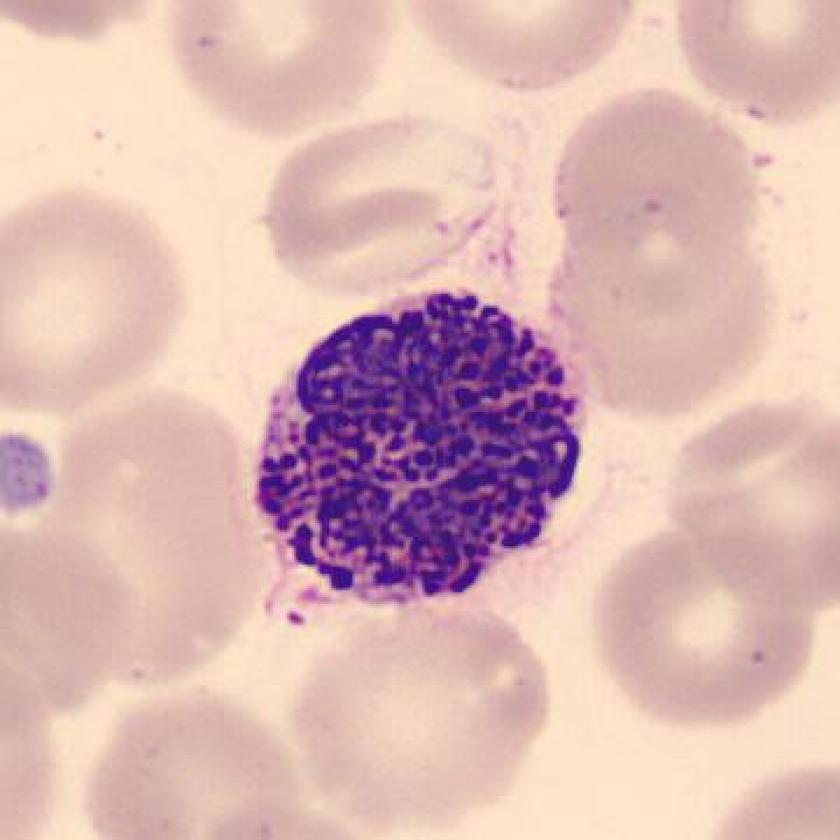basophil: (248, 288, 596, 612)
